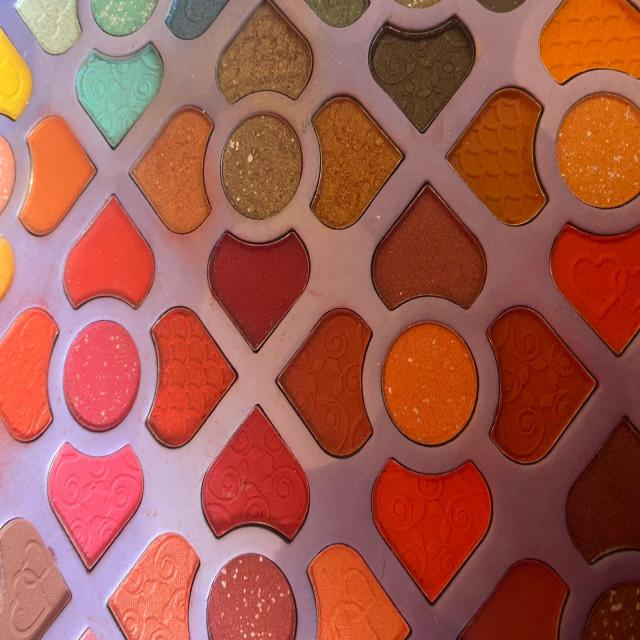eye shade: (487, 301, 600, 464), (374, 456, 493, 608), (274, 301, 377, 467), (198, 399, 314, 545), (439, 76, 548, 230), (371, 181, 489, 313), (547, 218, 640, 368), (308, 93, 406, 233), (207, 230, 314, 356), (380, 321, 482, 451), (370, 21, 481, 135), (147, 314, 240, 449), (564, 414, 640, 569), (128, 105, 216, 236), (50, 443, 144, 565), (304, 542, 414, 638), (65, 194, 157, 306), (220, 3, 316, 108), (109, 534, 203, 640), (557, 94, 640, 208), (0, 514, 74, 640), (19, 112, 95, 234), (0, 302, 64, 443), (207, 545, 301, 640), (62, 316, 140, 430), (76, 52, 172, 144), (462, 563, 576, 640), (534, 0, 640, 81), (224, 116, 299, 220), (584, 572, 640, 640), (13, 0, 82, 54), (1, 23, 29, 120), (87, 0, 155, 39), (162, 0, 227, 39)
